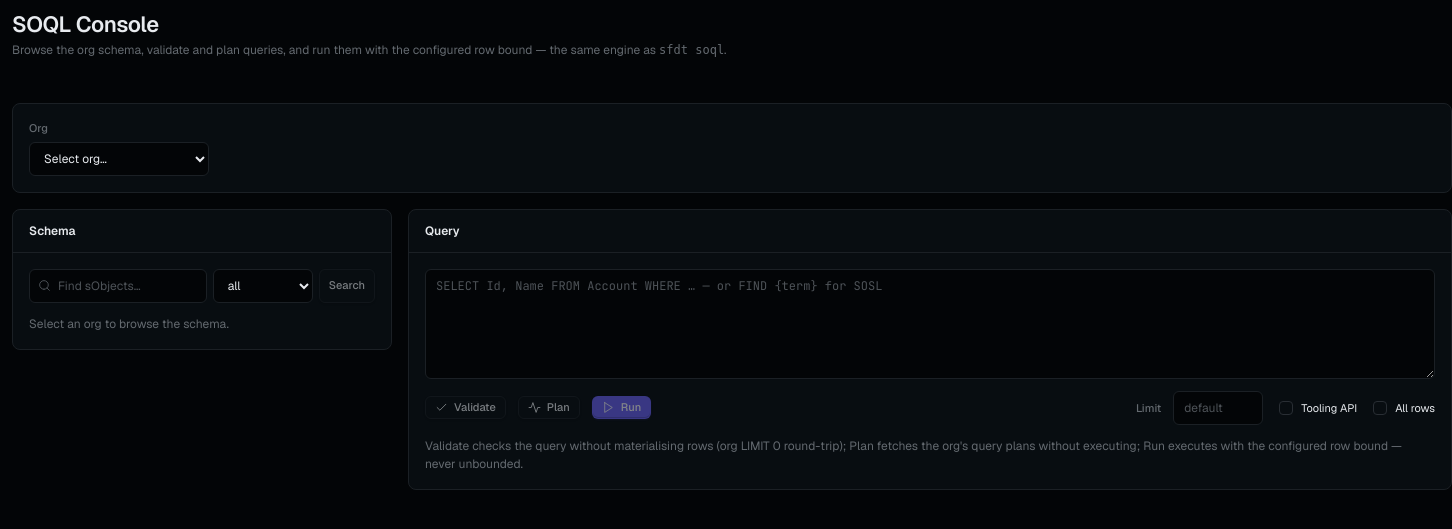
Test: SoqlConsolePage › shows validation errors verbatim for an invalid query
This screenshot has width=1452, height=529.
Replace the text in the text box named "Query editor" with "SELECT Nope FROM Account". click: (930, 324)
box: [425,269,1435,379]
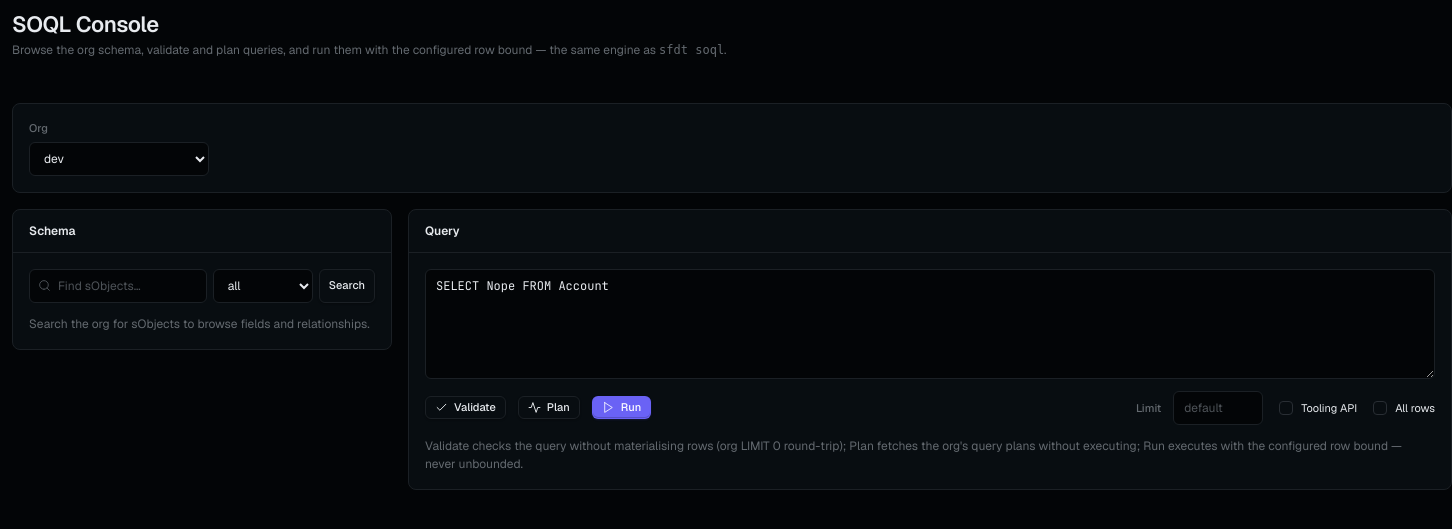
Click the button "Validate". click: click(465, 408)
box: [425,396,506,419]
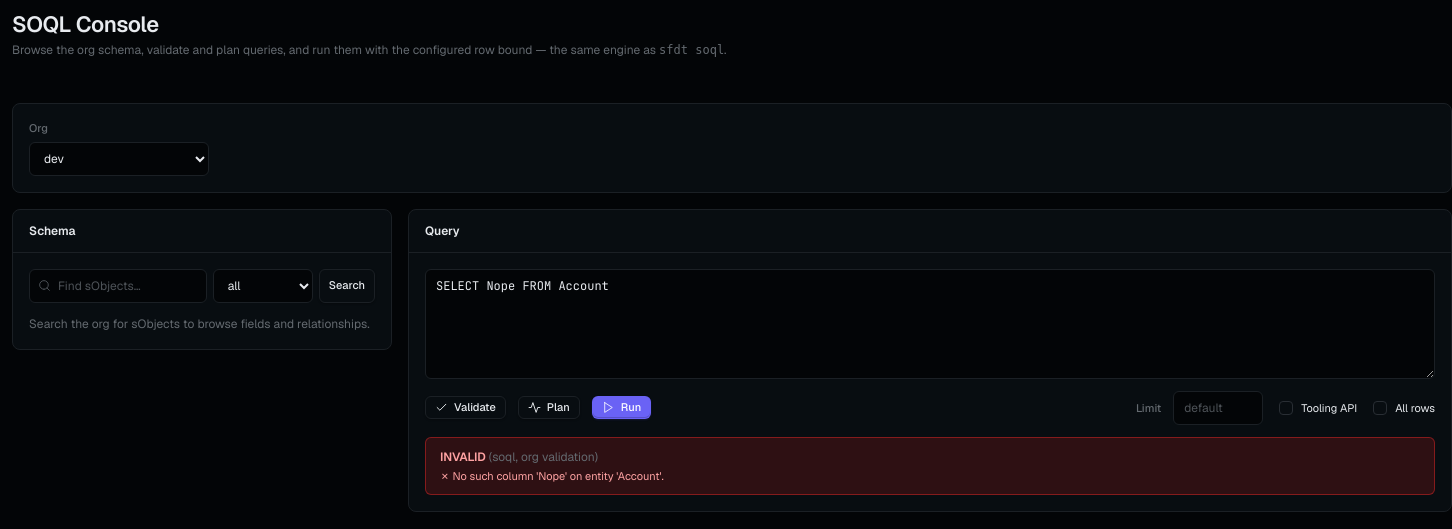
Result: the text "INVALID" is shown at [440,449,486,465]
Result: the text "✗ No such column 'Nope' on entity 'Account'." is shown at [440,468,664,484]
